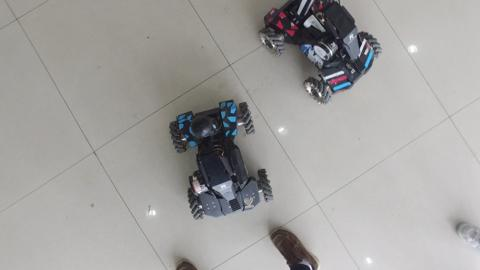chariot: (257, 1, 389, 110), (166, 98, 276, 223)
